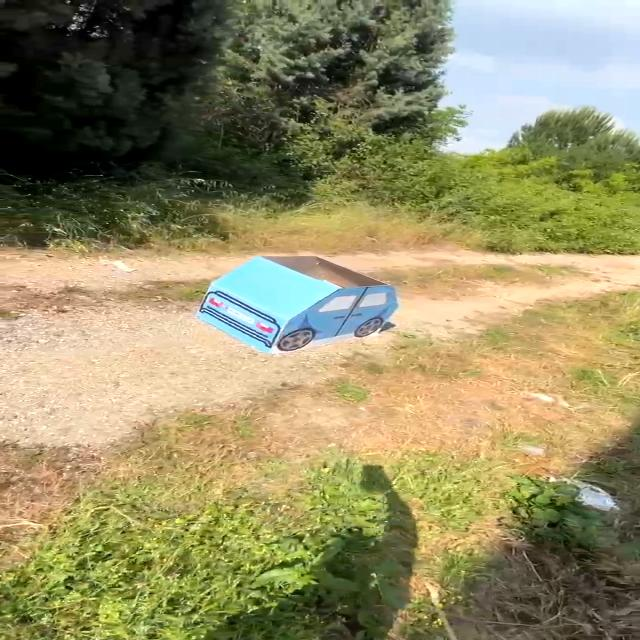blue_car: (192, 241, 415, 362)
